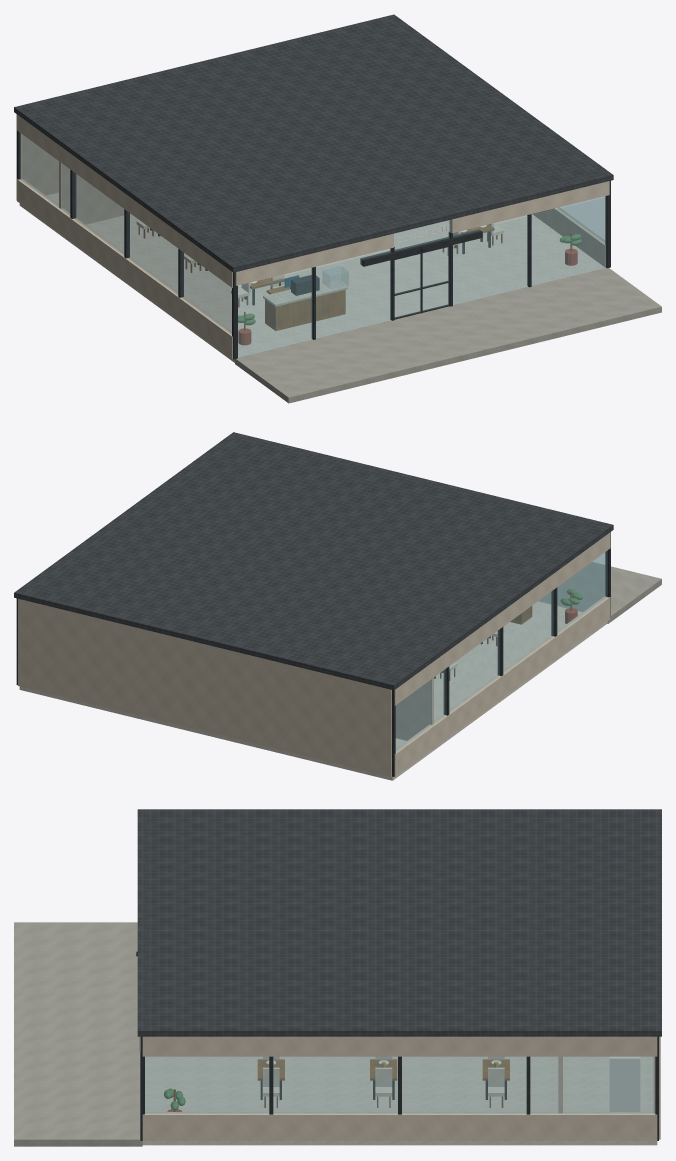
File: 25_Corner_Cafe_LOD1.glb
3 views of the same model, one above another, from view 1: azimuth 30°, elevation 25°; view 2: azimuth 150°, elevation 25°; view 3: azimuth 270°, elevation 25° (orthographic). The views are drawn at different scales.
Parts seen in each view (by area): view 1: Roof, Floor, Approach, Front glazing, Front glazing.001, Side glazing, Side base wall, Side upper wall, Front band.001, Front band, Internal partition, Service counter (+8 smaller); view 2: Roof, Rear wall, Side glazing, Floor, Side base wall, Side upper wall, Approach, Internal partition, Front glazing; view 3: Roof, Side glazing.001, Approach, Floor, Side base wall.001, Side upper wall.001, Fridge.
Part boxes in pixels (left/top/right/bottom): Roof: left=14, top=14, right=613, bottom=272; Floor: left=19, top=192, right=605, bottom=362; Approach: left=235, top=268, right=661, bottom=403; Front glazing: left=238, top=249, right=391, bottom=357; Front glazing.001: left=453, top=197, right=606, bottom=304; Side glazing: left=20, top=133, right=231, bottom=333; Side base wall: left=17, top=179, right=232, bottom=358; Side upper wall: left=17, top=114, right=232, bottom=287; Front band.001: left=449, top=181, right=609, bottom=233; Front band: left=235, top=233, right=393, bottom=285; Internal partition: left=59, top=161, right=130, bottom=224; Service counter: left=265, top=290, right=345, bottom=330; Roof: left=14, top=432, right=613, bottom=690; Rear wall: left=18, top=598, right=391, bottom=776; Side glazing: left=396, top=551, right=607, bottom=751; Floor: left=19, top=601, right=607, bottom=780; Side base wall: left=394, top=596, right=610, bottom=776; Side upper wall: left=394, top=532, right=610, bottom=705; Approach: left=539, top=562, right=661, bottom=623; Internal partition: left=395, top=677, right=433, bottom=740; Front glazing: left=539, top=553, right=604, bottom=611; Roof: left=137, top=809, right=661, bottom=1036; Side glazing.001: left=145, top=1057, right=654, bottom=1113; Approach: left=14, top=922, right=142, bottom=1146; Floor: left=142, top=1056, right=657, bottom=1145; Side base wall.001: left=142, top=1112, right=657, bottom=1140; Side upper wall.001: left=142, top=1036, right=657, bottom=1056; Fridge: left=609, top=1056, right=640, bottom=1111.
Bounding box in the file's own units: 16.3 × 4.04 × 20.15.
Materials: 17 (11 with a texture image).
